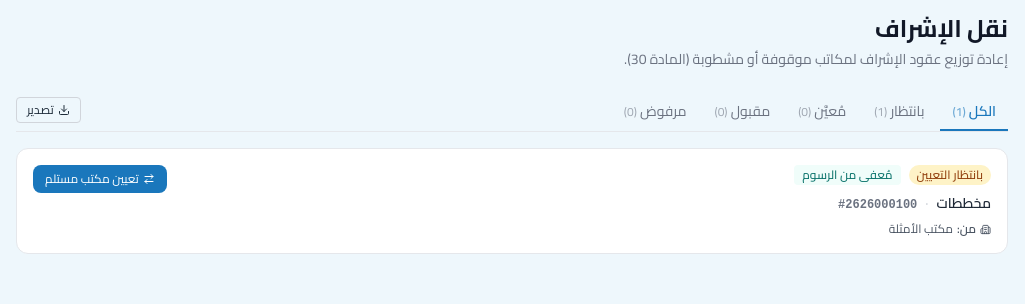
Test: SupervisionTransfersAdmin (JORD-83 UI) › empty state renders when filter yields nothing
The image size is (1025, 304).
Expected: the element with test id "transfer-row-1" is shown, left=16, top=148, right=1008, bottom=254
Click the button with test id "filter-accepted": (742, 112) left=702, top=93, right=782, bottom=131
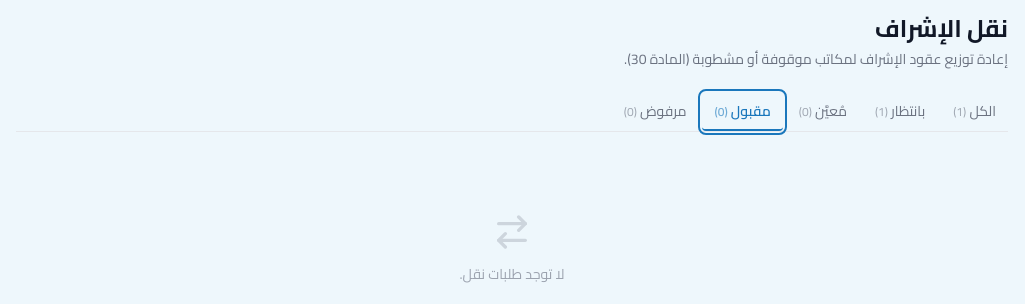
Expected: the text "لا توجد طلبات نقل." is shown, left=460, top=261, right=564, bottom=287
